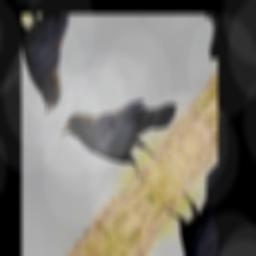Crow: (58, 42, 187, 206)
